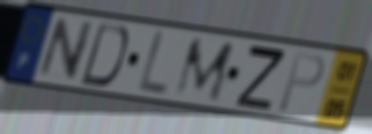D: (77, 20, 131, 90)
L: (135, 28, 171, 99)
M: (171, 37, 238, 104)
N: (34, 16, 97, 84)
P: (275, 50, 328, 115)
Z: (233, 43, 289, 114)
